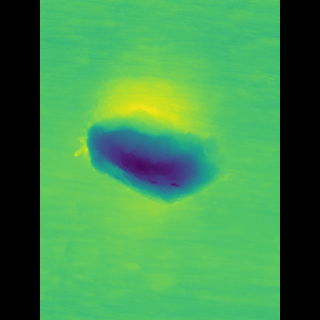Loch: (91, 103, 218, 214)
